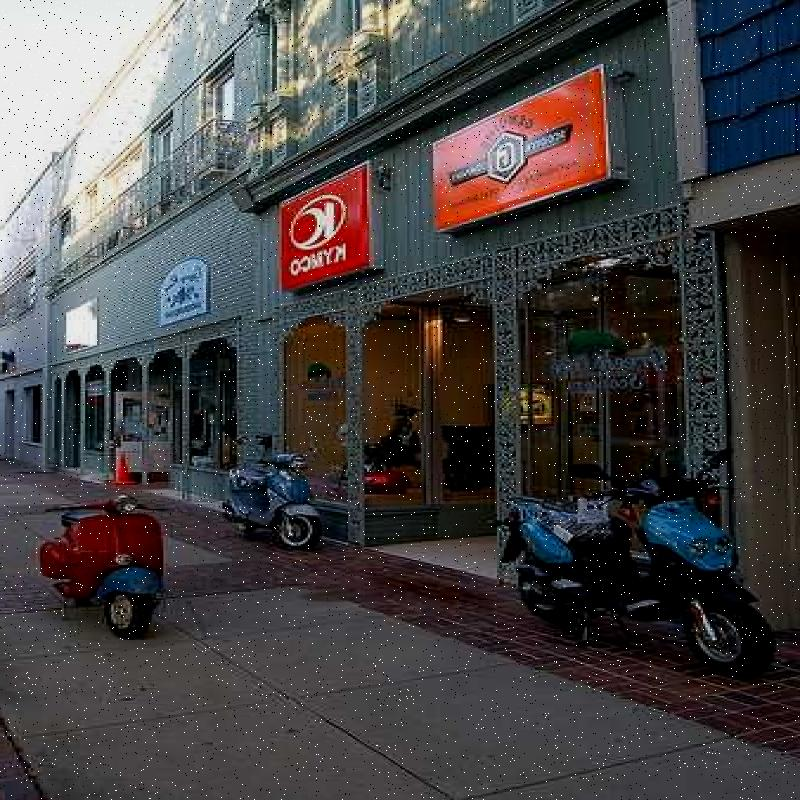bike: (501, 466, 747, 649), (43, 474, 193, 639), (220, 439, 326, 544)
